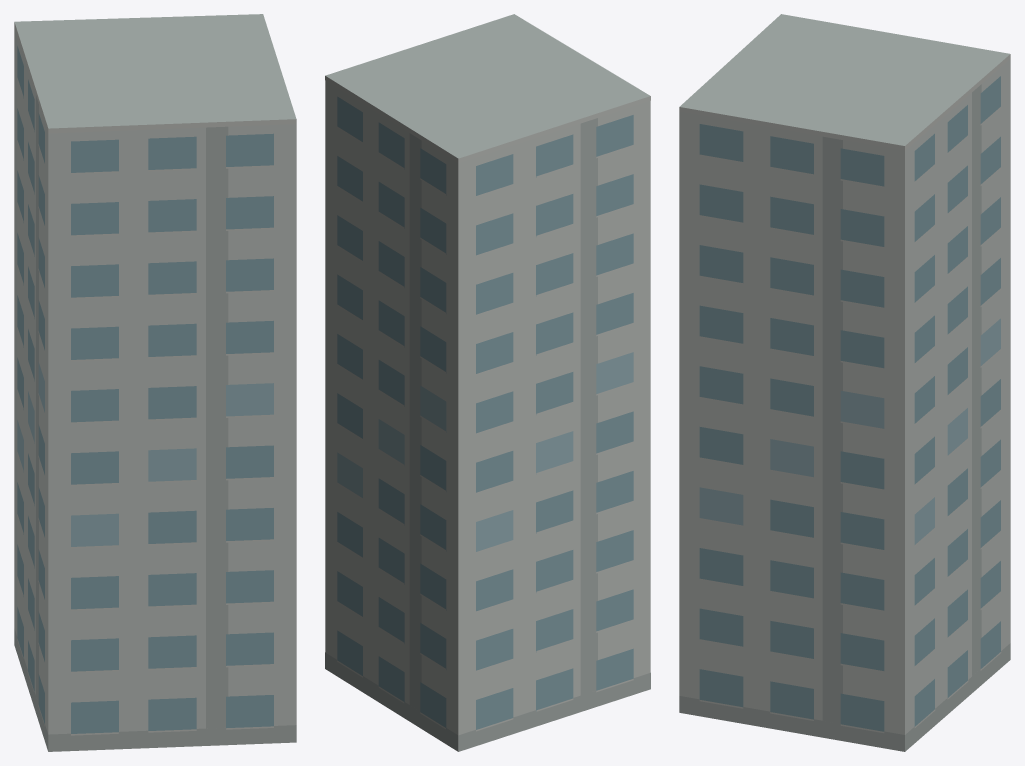
Rendered from survey-upis-32779060.glb.
3 renders of one model, left to right at view 1: azimuth 30°, elevation 25°; view 2: azimuth 150°, elevation 25°; view 3: azimuth 270°, elevation 25°, orthographic. The views are drawn at different scales.
Visible parts, largest first — view 1: survey-upis-32779060.tmp; view 2: survey-upis-32779060.tmp; view 3: survey-upis-32779060.tmp.
Part boxes in pixels (x1,y1,x2,y2): survey-upis-32779060.tmp: (14, 14, 296, 751); survey-upis-32779060.tmp: (325, 14, 650, 751); survey-upis-32779060.tmp: (679, 14, 1010, 751).
Bounding box in the file's own units: 14.27 × 30.5 × 15.12.
